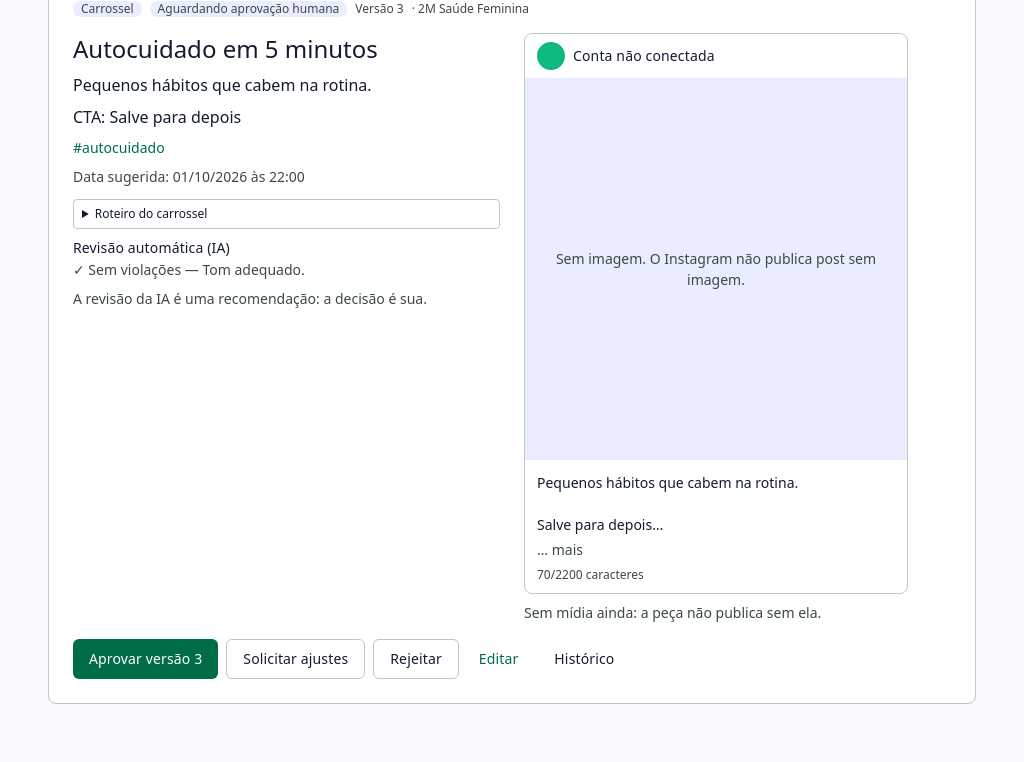
Test: o histórico mostra a linha do tempo com quem fez, a versão, o motivo e as decisões humanas
(page scrolled)
Click the button "Histórico".
click(584, 659)  # box left=538, top=639, right=630, bottom=679
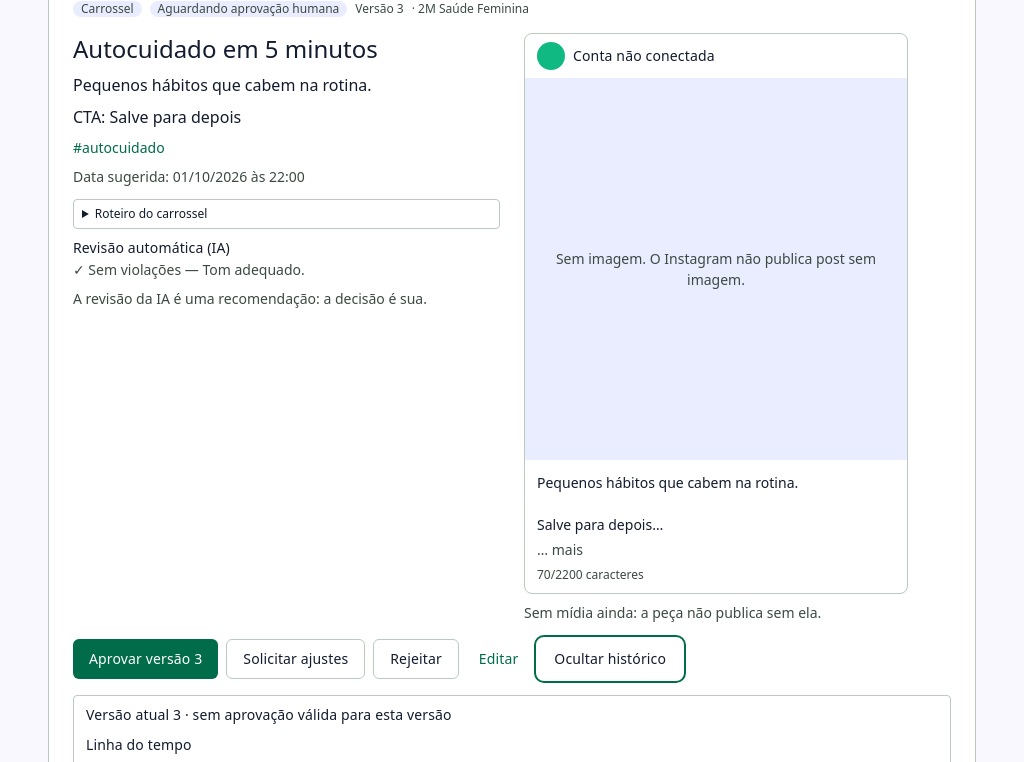
Check: the text "Versão atual 3 · sem aprovação válida para esta versão" is shown, box left=86, top=705, right=452, bottom=724
